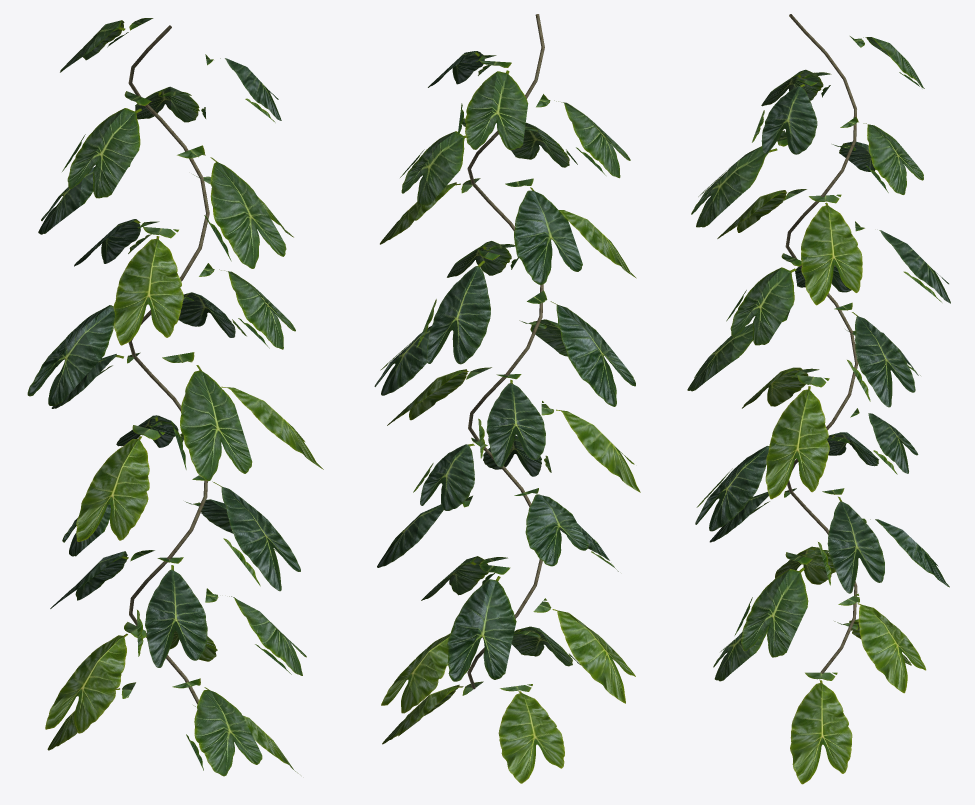
The model's file is climber_02.glb.
3 views of the same model, side by side, from view 1: azimuth 30°, elevation 25°; view 2: azimuth 150°, elevation 25°; view 3: azimuth 270°, elevation 25° (orthographic). The views are drawn at different scales.
Visible parts, largest first — view 1: climber_02; view 2: climber_02; view 3: climber_02.
Part boxes in pixels (x1,y1,x2,y2): climber_02: (27,18,323,776); climber_02: (374,14,640,783); climber_02: (687,14,950,784).
Bounding box in the file's own units: 2.06 × 5.61 × 2.01.
2 materials, 2 textured.
